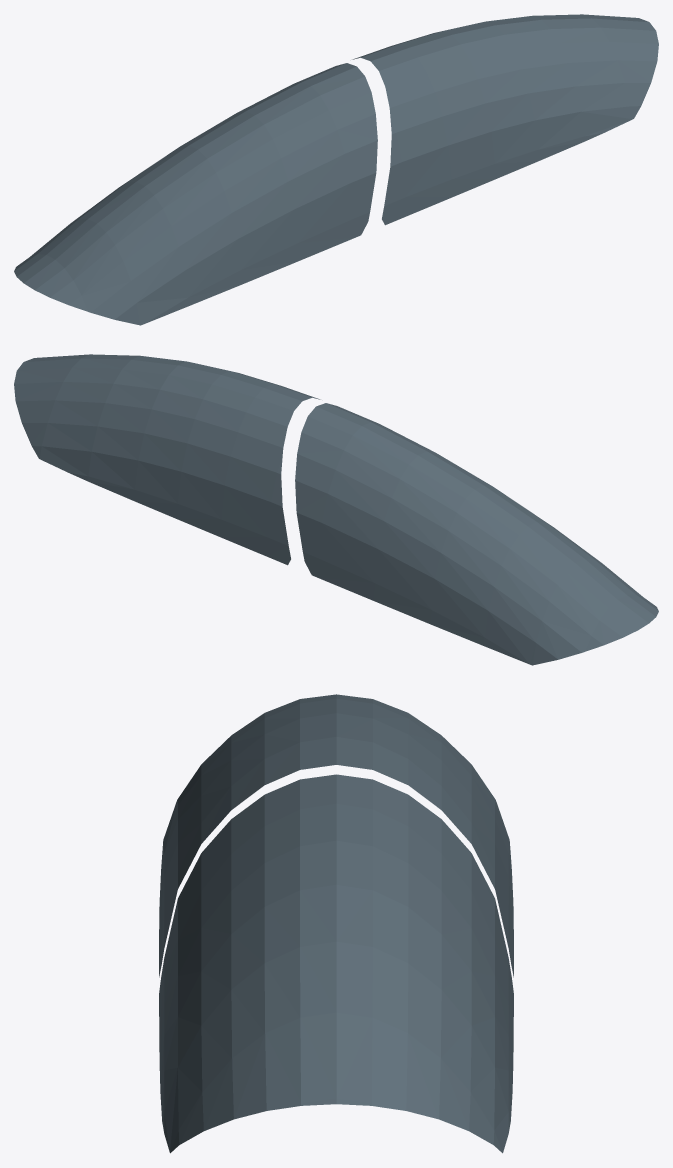
The model's file is pc21.glass.glb.
The picture shows the model from 3 angles, top to bottom: view 1: azimuth 30°, elevation 25°; view 2: azimuth 150°, elevation 25°; view 3: azimuth 270°, elevation 25°; orthographic projection. The views are drawn at different scales.
Visible parts, largest first — view 1: glass; view 2: glass; view 3: glass.
Part boxes in pixels (left/top/right/bottom): glass: left=14, top=14, right=658, bottom=325; glass: left=14, top=354, right=658, bottom=665; glass: left=159, top=694, right=513, bottom=1153.
Size of the model in its own units: 2.98 by 0.7852 by 0.7324.
